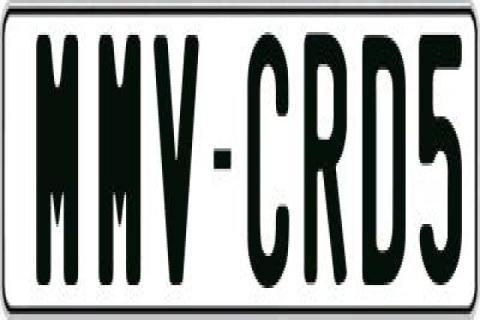0: (416, 26, 462, 288)
C: (246, 32, 288, 294)
D: (360, 29, 410, 297)
M: (96, 35, 144, 285), (33, 35, 77, 291)
R: (302, 29, 344, 297)
V: (150, 35, 200, 285)
